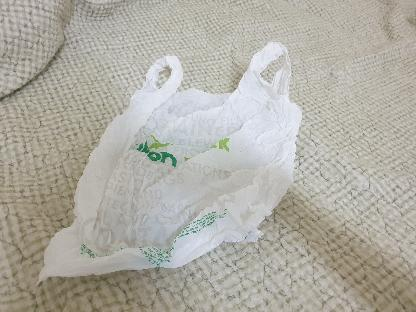Plastic Bag: (34, 43, 302, 288)
